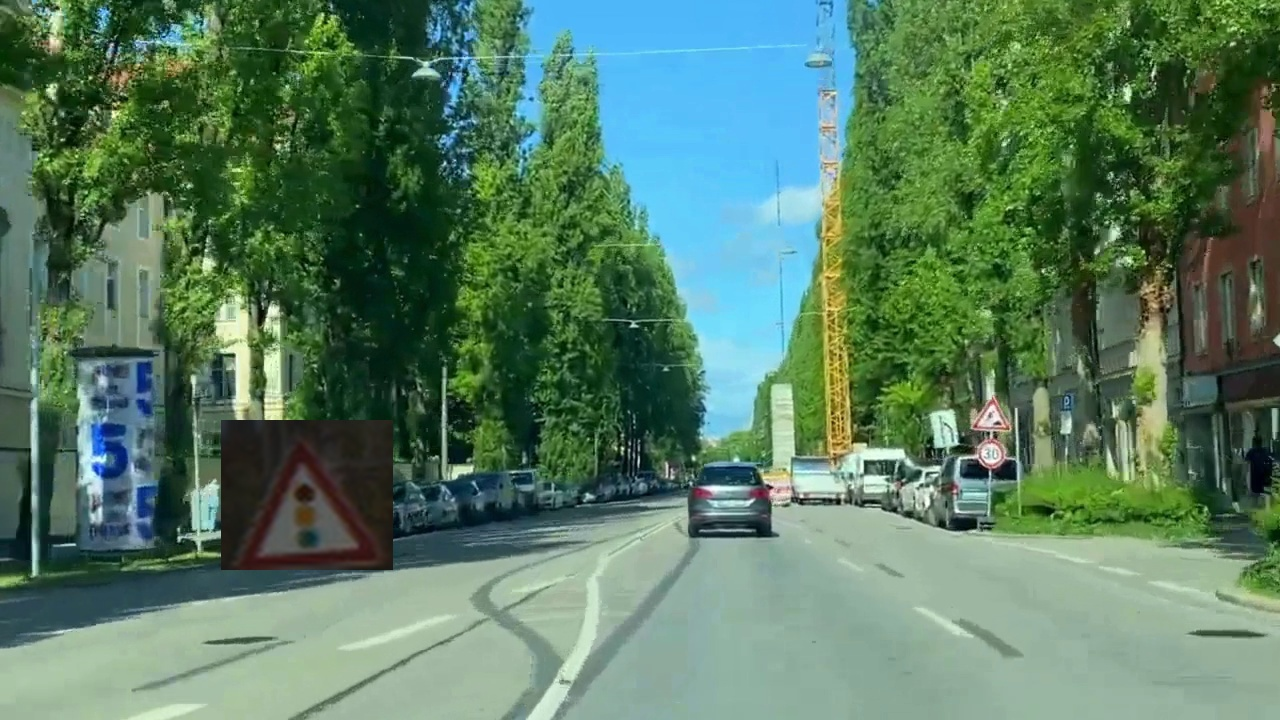Signals: (221, 420, 393, 570)
